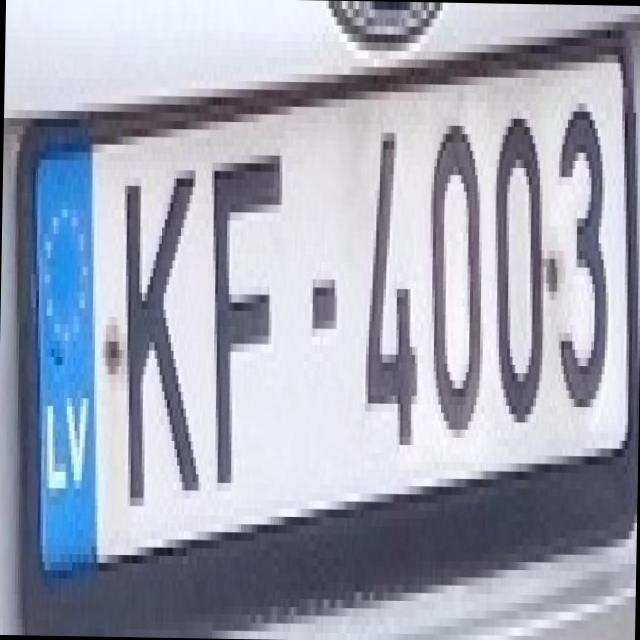0: (410, 100, 492, 438), (475, 94, 549, 422)
3: (538, 78, 620, 407)
4: (348, 107, 427, 445)
F: (192, 128, 288, 484)
K: (100, 144, 204, 498)
